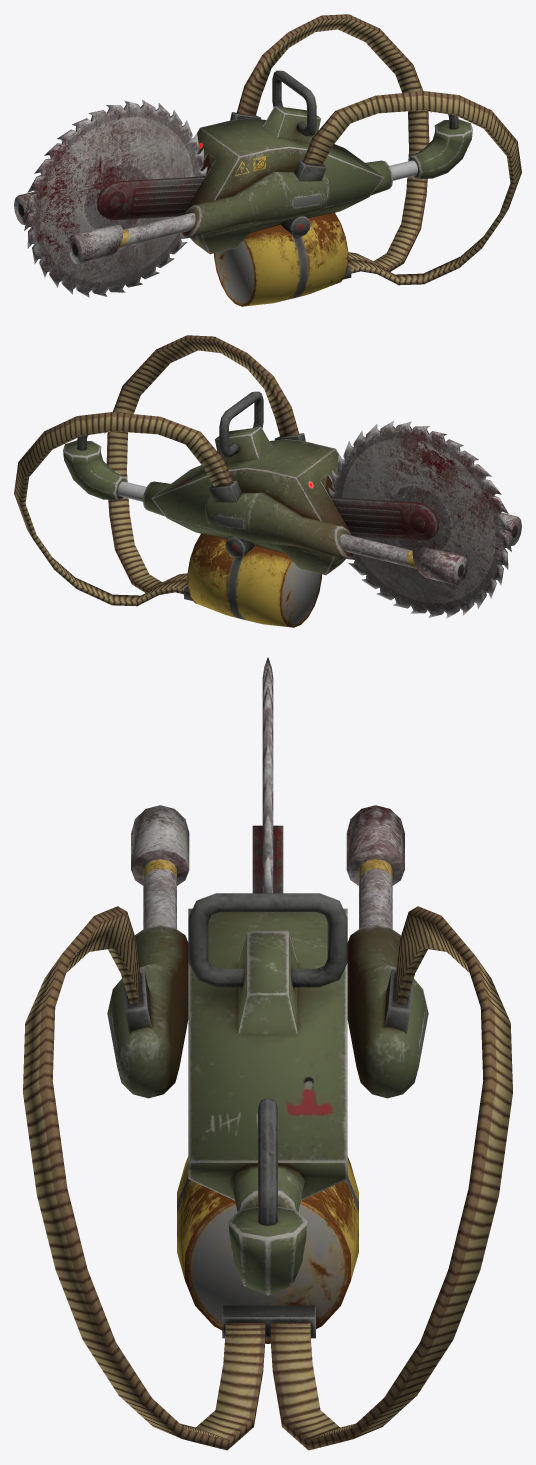
File: saw-gun.glb
The picture shows the model from 3 angles, top to bottom: view 1: azimuth 30°, elevation 25°; view 2: azimuth 150°, elevation 25°; view 3: azimuth 270°, elevation 25°; orthographic projection. The views are drawn at different scales.
Visible parts, largest first — view 1: saw_low003__0, base_low003__0, magazine_low003__0, ammo.r_low003__0, ammo.l_low003__0, extractor.l_low003__0, saw_arm_low003__0, arm_03_low003__0, muzzle.l_low003__0, barrel.l_low003__0, handle_02_low003__0, magazine_in.l_low003__0 (+4 smaller); view 2: saw_low003__0, base_low003__0, magazine_low003__0, ammo.l_low003__0, ammo.r_low003__0, extractor.r_low003__0, saw_arm_low003__0, arm_03_low003__0, muzzle.r_low003__0, barrel.r_low003__0, handle_02_low003__0, magazine_in.r_low003__0 (+4 smaller); view 3: base_low003__0, ammo.l_low003__0, ammo.r_low003__0, magazine_low003__0, extractor.l_low003__0, extractor.r_low003__0, handle_02_low003__0, arm_03_low003__0, muzzle.l_low003__0, muzzle.r_low003__0, saw_low003__0, handle_01_low003__0 (+7 smaller).
Part boxes in pixels (x1,y1,x2,y2): saw_low003__0: [24, 100, 207, 297]; base_low003__0: [186, 106, 384, 254]; magazine_low003__0: [214, 212, 348, 306]; ammo.r_low003__0: [236, 14, 429, 271]; ammo.l_low003__0: [303, 91, 521, 285]; extractor.l_low003__0: [180, 171, 330, 238]; saw_arm_low003__0: [97, 172, 207, 219]; arm_03_low003__0: [408, 119, 472, 179]; muzzle.l_low003__0: [68, 224, 123, 264]; barrel.l_low003__0: [119, 213, 195, 247]; handle_02_low003__0: [272, 70, 316, 136]; magazine_in.l_low003__0: [294, 159, 326, 180]; saw_low003__0: [328, 421, 511, 618]; base_low003__0: [151, 427, 349, 575]; magazine_low003__0: [187, 533, 321, 627]; ammo.l_low003__0: [106, 335, 299, 592]; ammo.r_low003__0: [14, 412, 232, 606]; extractor.r_low003__0: [205, 492, 355, 559]; saw_arm_low003__0: [328, 493, 438, 540]; arm_03_low003__0: [63, 440, 127, 500]; muzzle.r_low003__0: [412, 545, 467, 585]; barrel.r_low003__0: [340, 534, 416, 568]; handle_02_low003__0: [219, 391, 263, 457]; magazine_in.r_low003__0: [209, 480, 241, 501]; base_low003__0: [188, 908, 347, 1200]; ammo.l_low003__0: [23, 906, 265, 1450]; ammo.r_low003__0: [270, 906, 512, 1450]; magazine_low003__0: [177, 1156, 358, 1343]; extractor.l_low003__0: [107, 925, 188, 1098]; extractor.r_low003__0: [347, 925, 428, 1098]; handle_02_low003__0: [188, 893, 347, 987]; arm_03_low003__0: [228, 1206, 307, 1295]; muzzle.l_low003__0: [131, 805, 189, 885]; muzzle.r_low003__0: [346, 805, 404, 885]; saw_low003__0: [262, 657, 273, 893]; handle_01_low003__0: [258, 1097, 277, 1225].
Bounding box in the file's own units: 1.05 × 0.5351 × 0.4927.
Materials: 1 (1 with a texture image).
